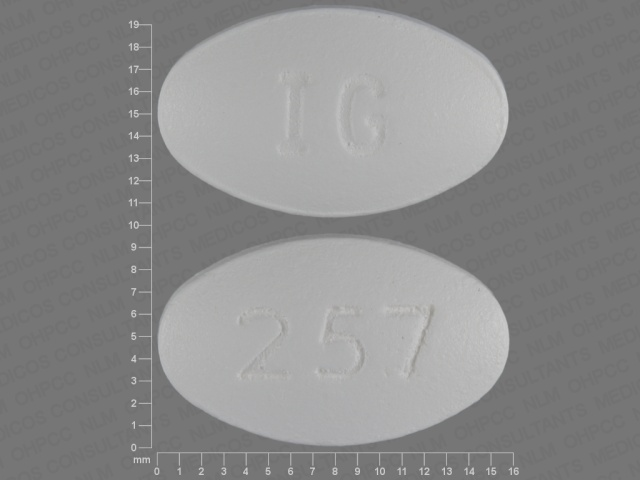2: (232, 307, 296, 391)
5: (310, 303, 369, 382)
7: (374, 303, 435, 382)
G: (327, 68, 389, 161)
I: (274, 67, 318, 162)
